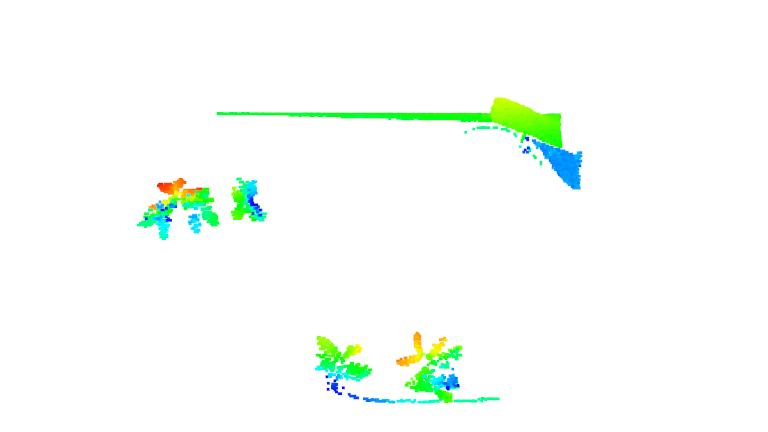chickpea: (135, 176, 222, 242), (391, 331, 466, 406), (313, 333, 373, 388), (227, 175, 270, 224)
